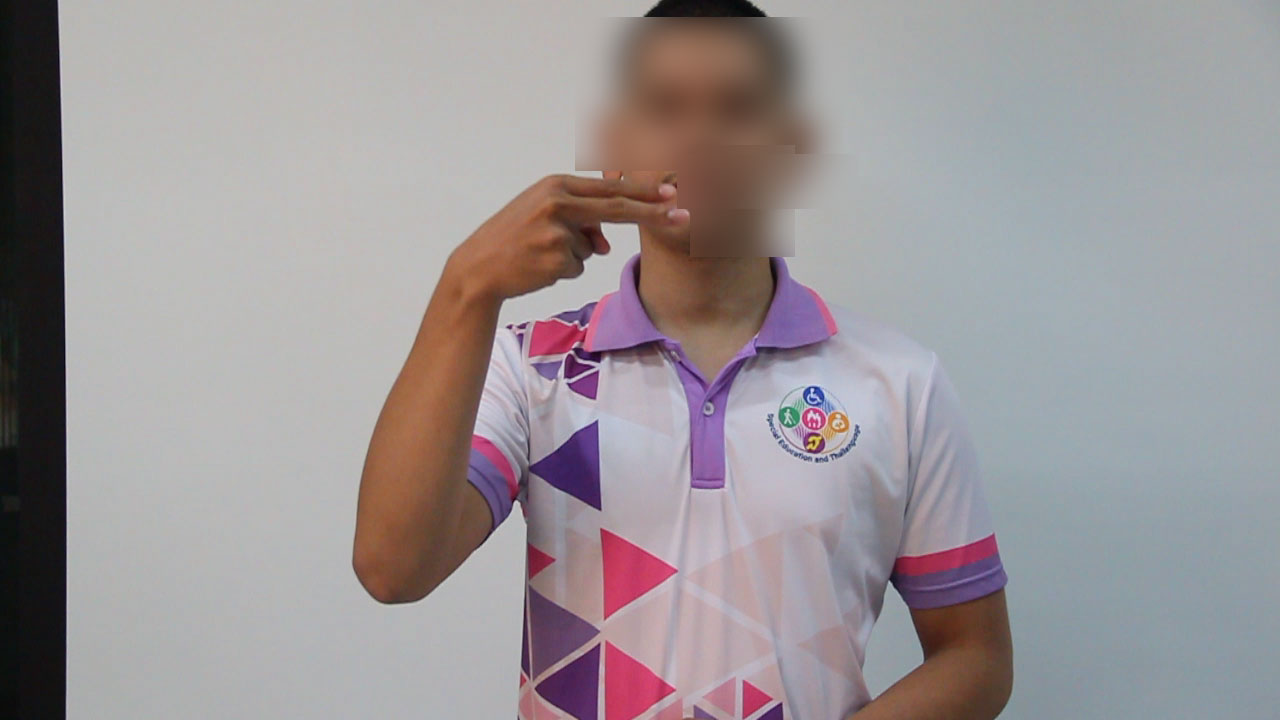hor: (424, 168, 703, 306)
